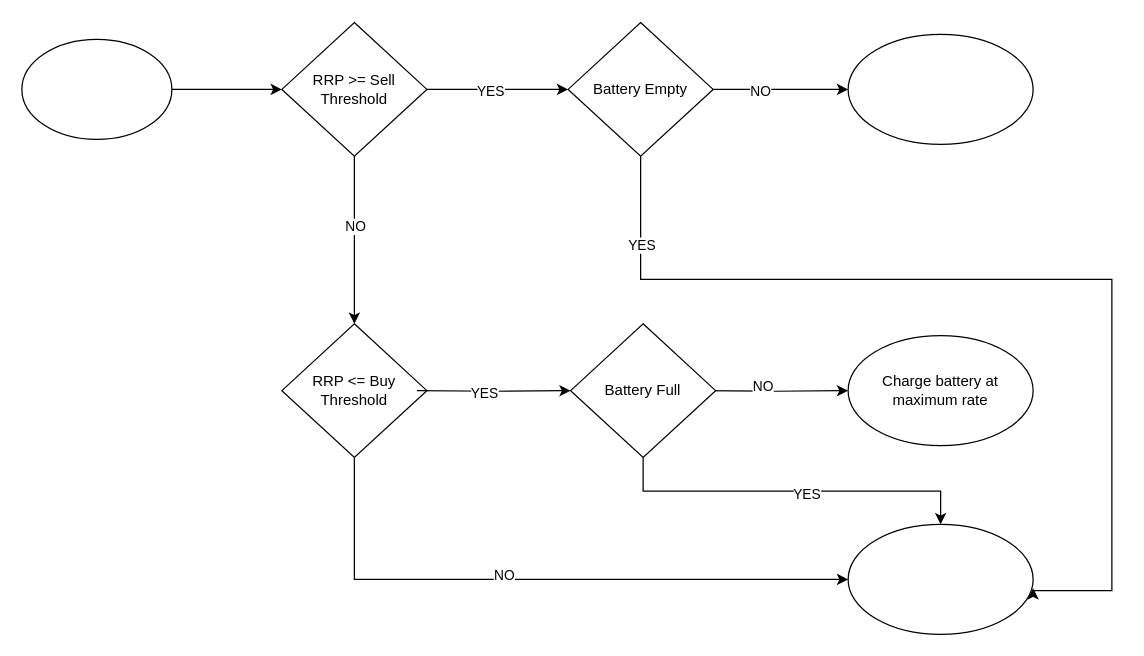
Some shapes in this 1144 by 656 pixel diagram are drawn without their labels. The shapes that lost their labels are listed below. From the top down, each one's box as (x1, y1, x2, y2) in pixels, then its label:
(21, 38, 172, 139): 5-Minute Interval Pricing Set
(847, 33, 1033, 144): Discharge battery at maximum rate
(847, 523, 1033, 634): No Battery Action
